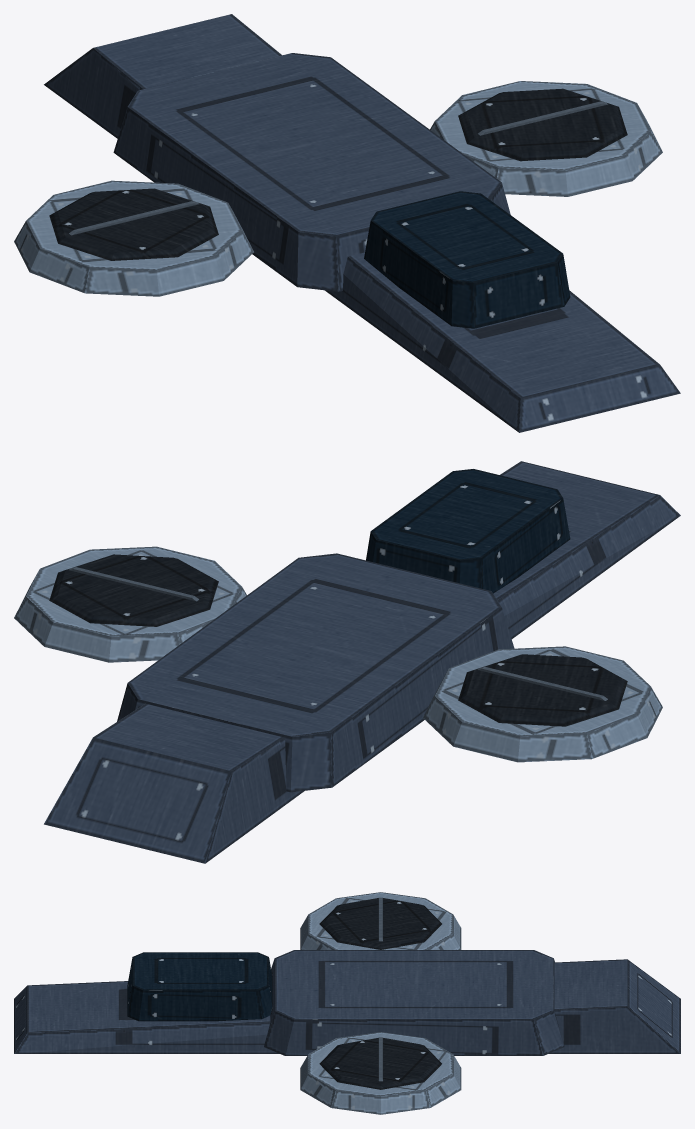
Rendered from unit-gunship.fbx.
3 views of the same model, one above another, from view 1: azimuth 30°, elevation 25°; view 2: azimuth 150°, elevation 25°; view 3: azimuth 270°, elevation 25° (orthographic). The views are drawn at different scales.
Parts seen in each view (by area): view 1: unit-gunship; view 2: unit-gunship; view 3: unit-gunship.
Boxes of the visible parts, box(x1,y1,x2,y2) form: unit-gunship: box(14, 14, 680, 432); unit-gunship: box(14, 461, 680, 863); unit-gunship: box(14, 892, 680, 1114).
Size of the model in its own units: 731 by 114 by 975.
1 material, 1 textured.
